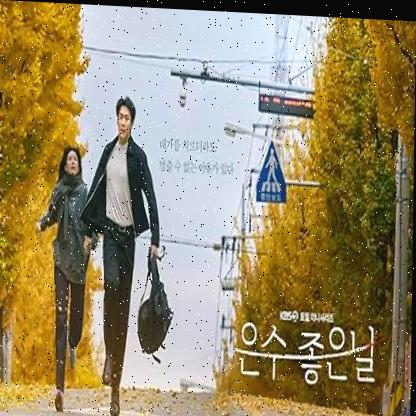person: (76, 90, 175, 416), (29, 142, 95, 416)
